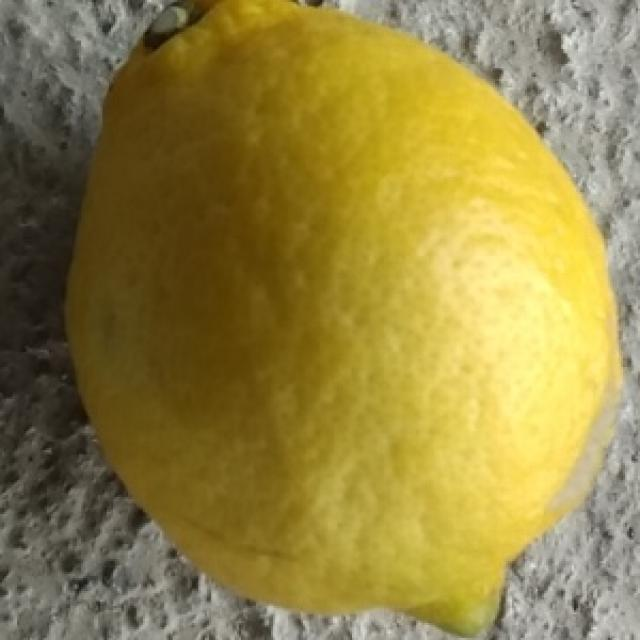Ripe: (62, 0, 630, 640)
